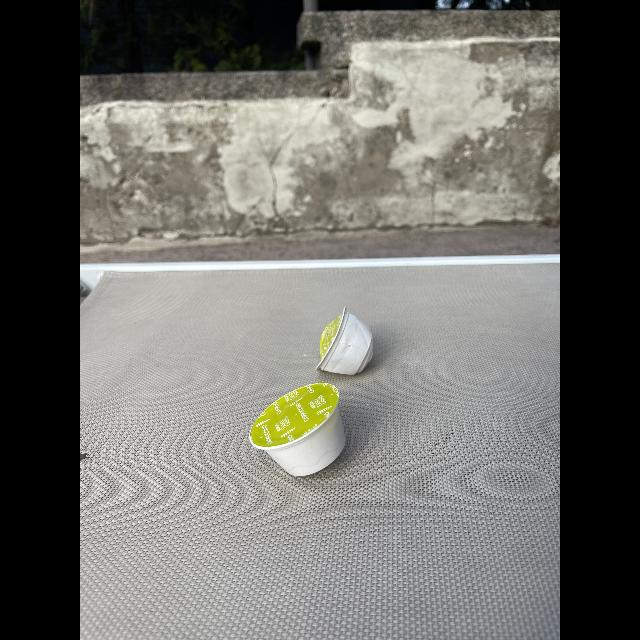damaged_capsule: (312, 306, 378, 380)
intact_capsule: (246, 378, 354, 479)
